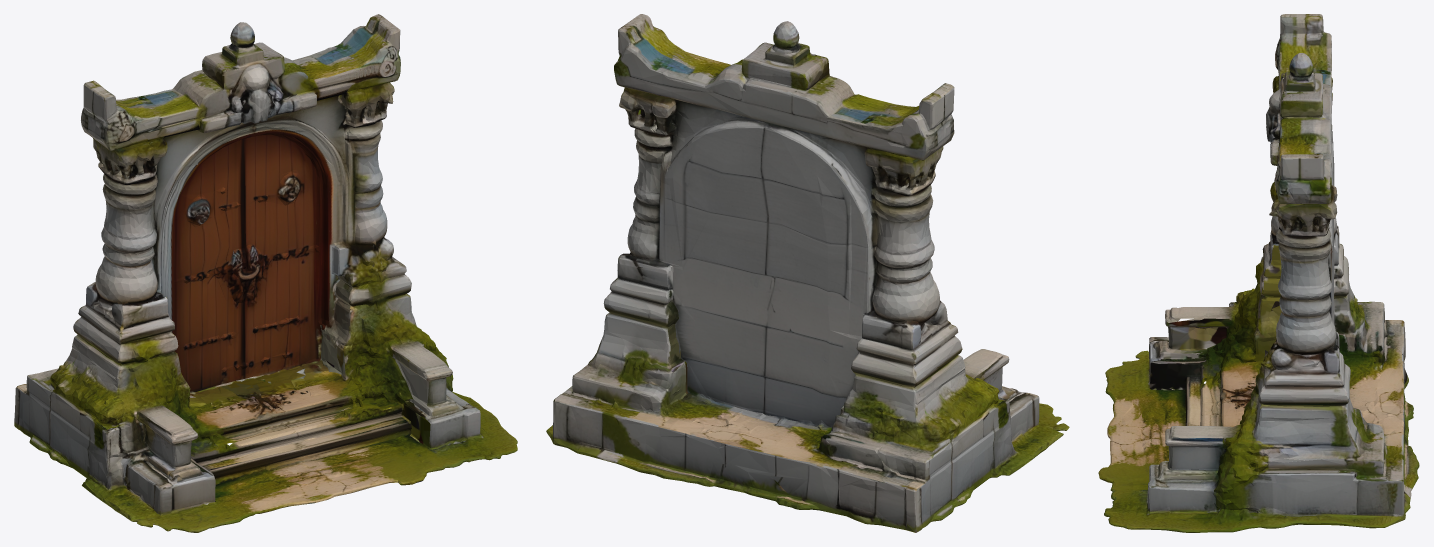
File: weathered-teakwood-palace-door-optimized.glb
3 views of the same model, side by side, from view 1: azimuth 30°, elevation 25°; view 2: azimuth 150°, elevation 25°; view 3: azimuth 270°, elevation 25° (orthographic). The views are drawn at different scales.
Parts seen in each view (by area): view 1: a8506102-b705-40a9-85a8-23b16c6cb4e0_texturing.obj; view 2: a8506102-b705-40a9-85a8-23b16c6cb4e0_texturing.obj; view 3: a8506102-b705-40a9-85a8-23b16c6cb4e0_texturing.obj.
Boxes of the visible parts, x1,y1,x2,y2 form: a8506102-b705-40a9-85a8-23b16c6cb4e0_texturing.obj: (14,14,517,532); a8506102-b705-40a9-85a8-23b16c6cb4e0_texturing.obj: (546,14,1069,532); a8506102-b705-40a9-85a8-23b16c6cb4e0_texturing.obj: (1098,14,1419,532).
Size of the model in its own units: 3.18 by 3.2 by 2.39.
1 material, 1 textured.
